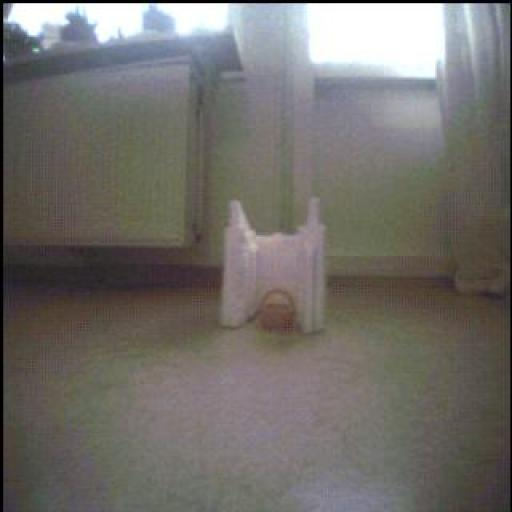Basket: (260, 291, 297, 332)
